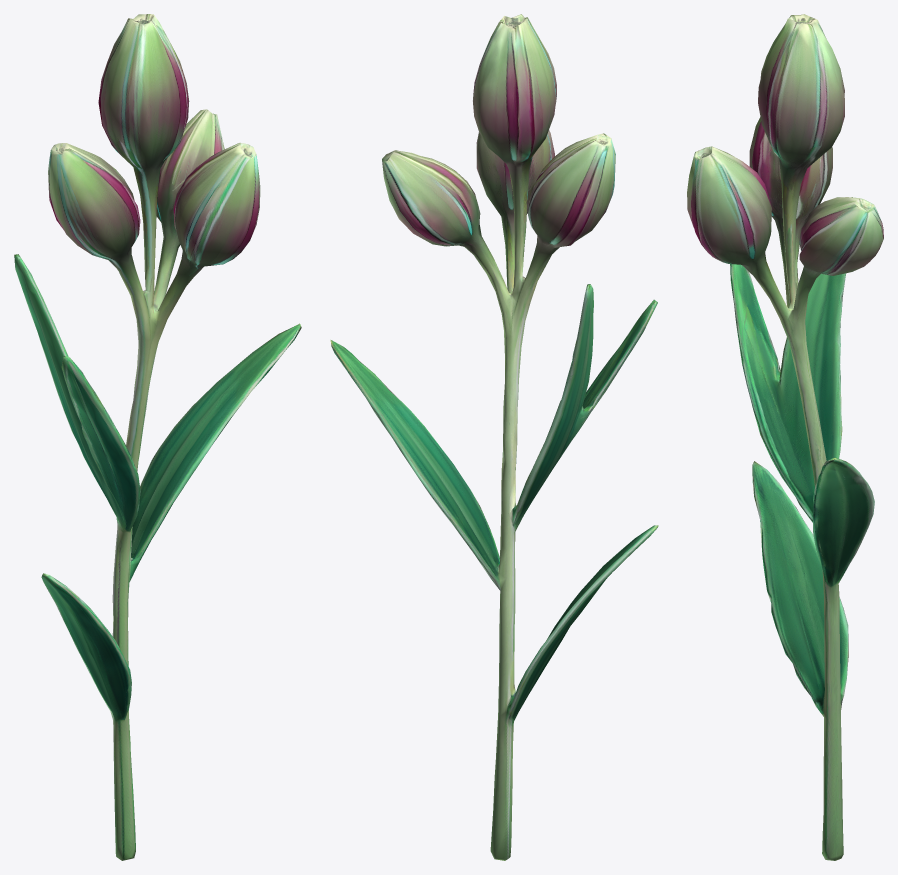
3 views of the same model, side by side, from view 1: azimuth 30°, elevation 25°; view 2: azimuth 150°, elevation 25°; view 3: azimuth 270°, elevation 25° (orthographic). The views are drawn at different scales.
Parts seen in each view (by area): view 1: Mesh_0; view 2: Mesh_0; view 3: Mesh_0.
Part boxes in pixels (x1,y1,x2,y2): Mesh_0: (14,14,301,860); Mesh_0: (330,14,658,860); Mesh_0: (687,14,883,860).
Size of the model in its own units: 0.6964 by 1.91 by 0.4043.
1 material, 1 textured.
